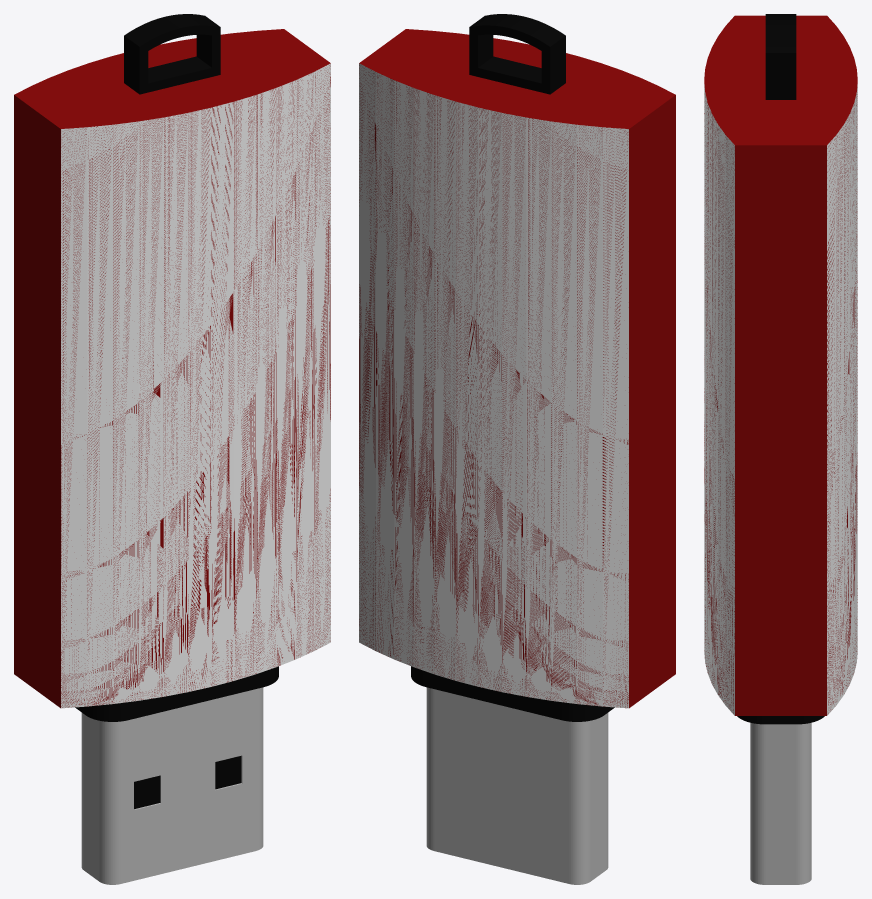
The picture shows the model from 3 angles, left to right: view 1: azimuth 30°, elevation 25°; view 2: azimuth 150°, elevation 25°; view 3: azimuth 270°, elevation 25°; orthographic projection.
Visible parts, largest first — view 1: usb; view 2: usb; view 3: usb.
Part boxes in pixels (x1,y1,x2,y2): usb: (14,14,330,884); usb: (359,14,675,884); usb: (704,14,857,884).
Bounding box in the file's own units: 7.87 × 23.23 × 3.94.
